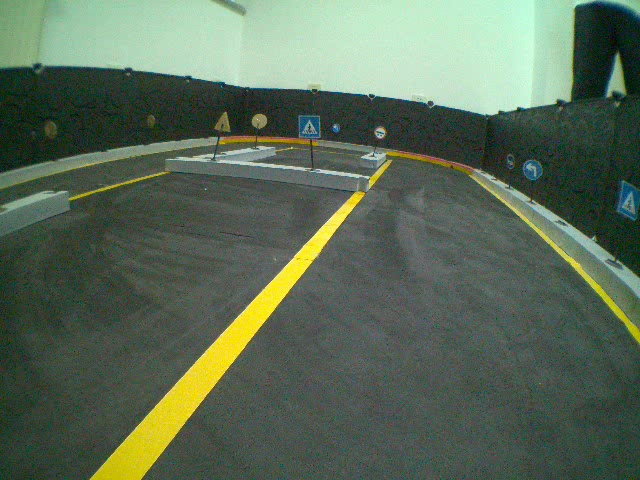Check: (373, 123, 391, 141)
crossing: (615, 178, 640, 220), (297, 113, 321, 139)
turn: (521, 155, 544, 184), (329, 121, 343, 134)
